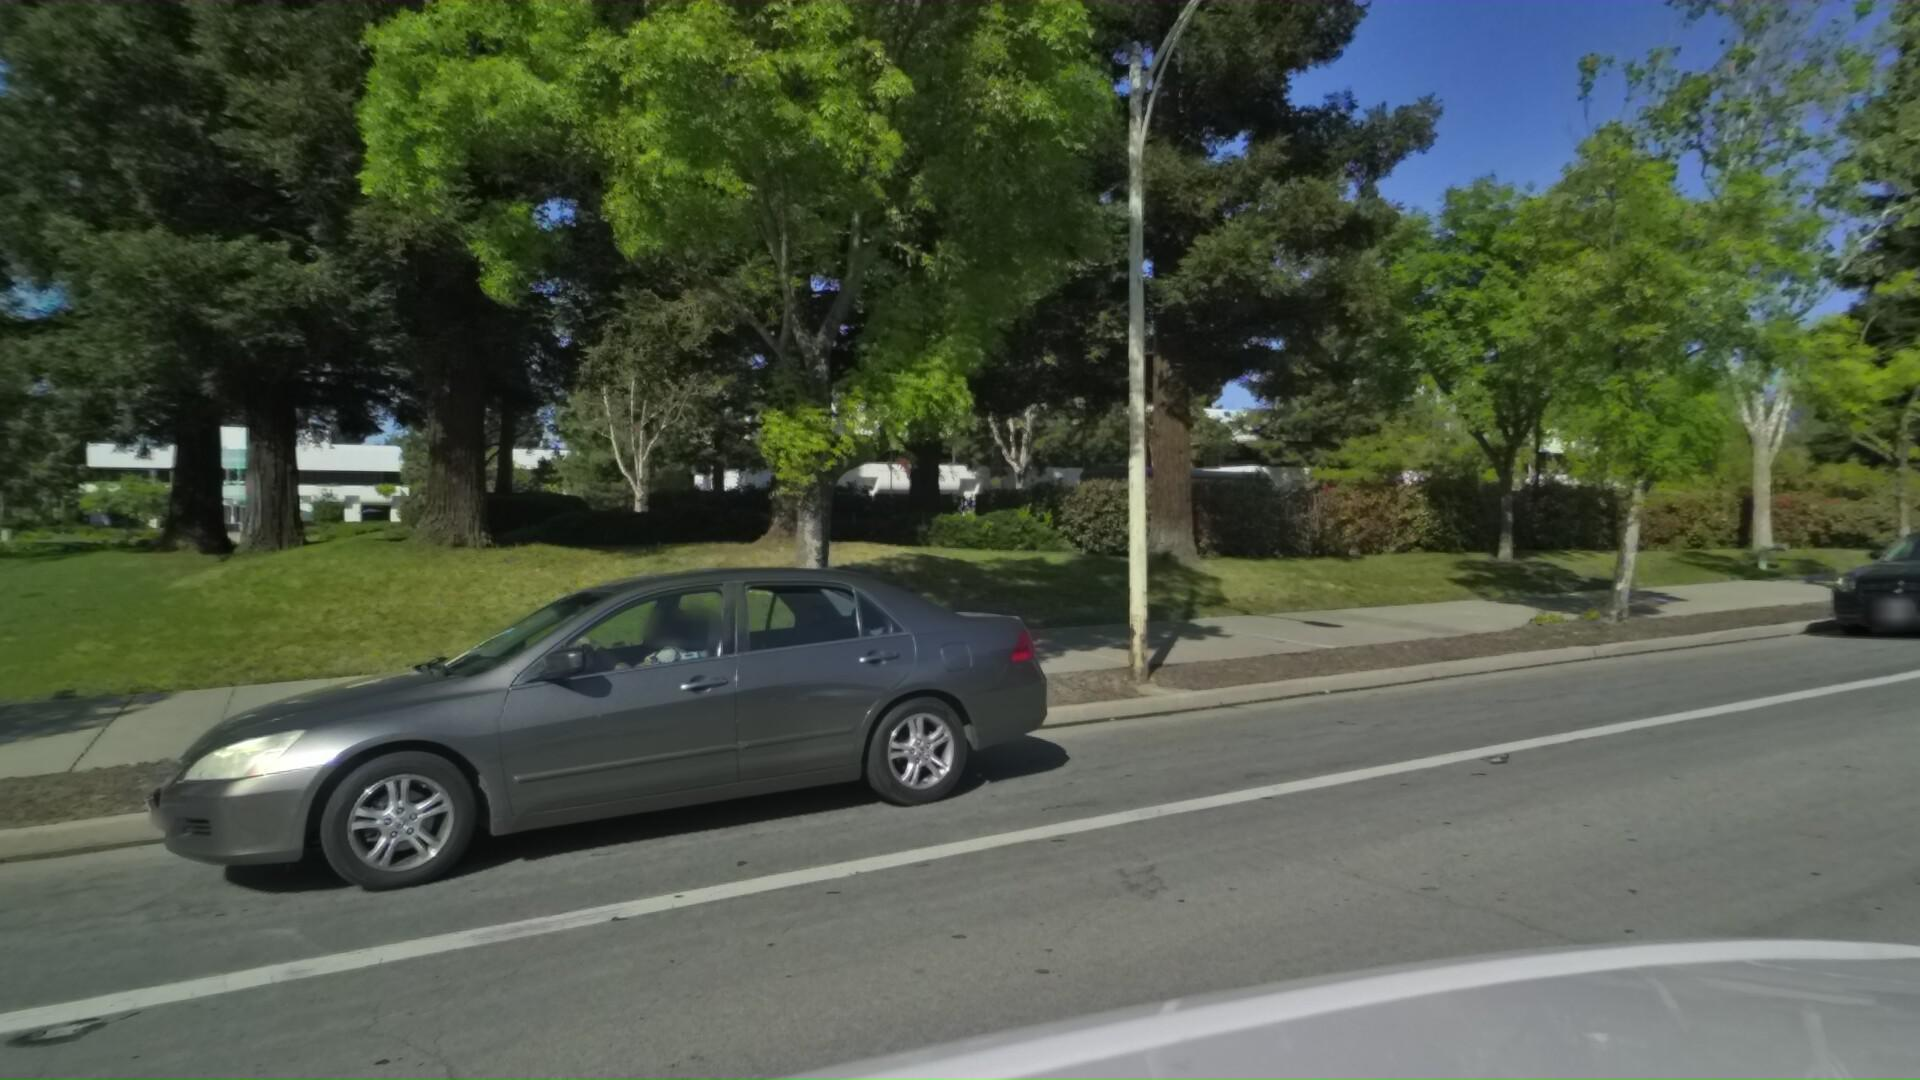car: (26, 530, 1044, 956), (1784, 506, 1920, 647)
